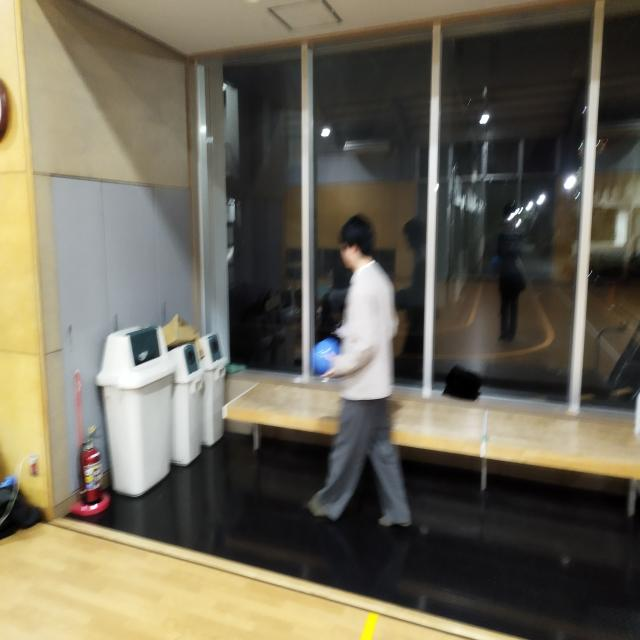blue_ball: (310, 336, 340, 379)
